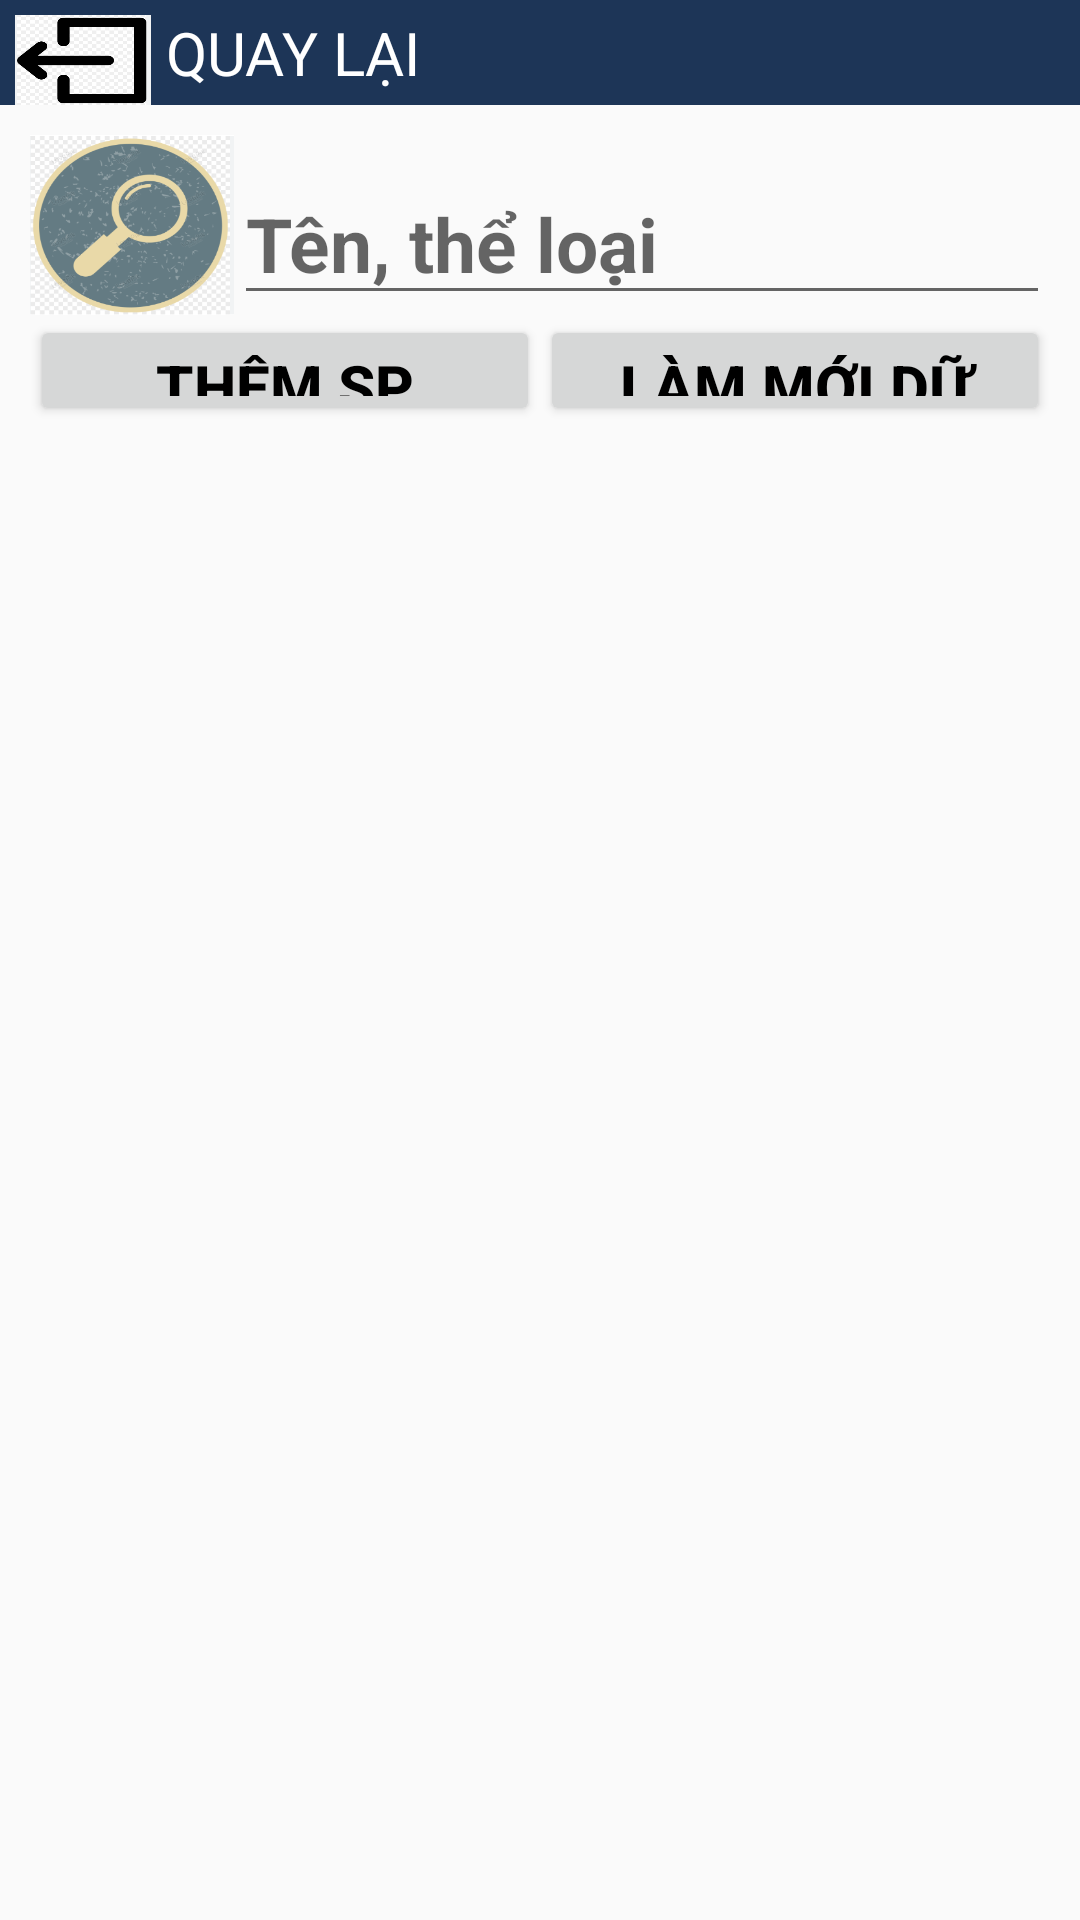

Point at icon controls on the screen. Image size 1080px×1920px, points as (x,y).
iconfind: (130,225)
